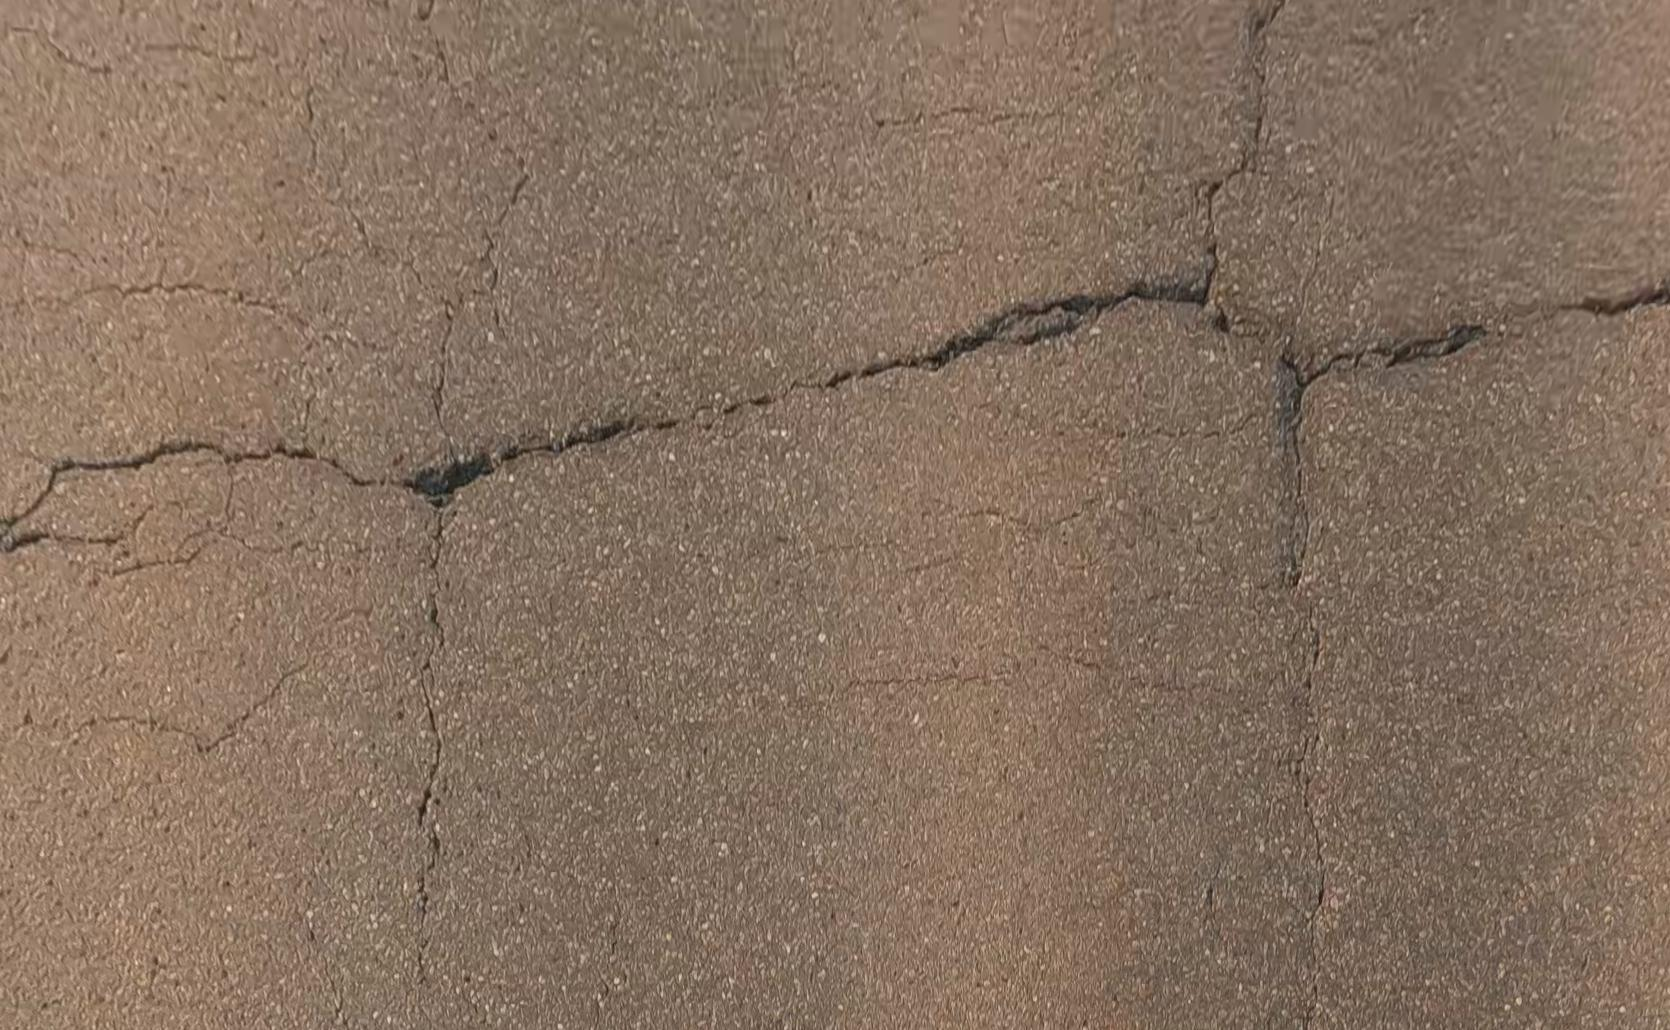pothole: (406, 456, 493, 513)
